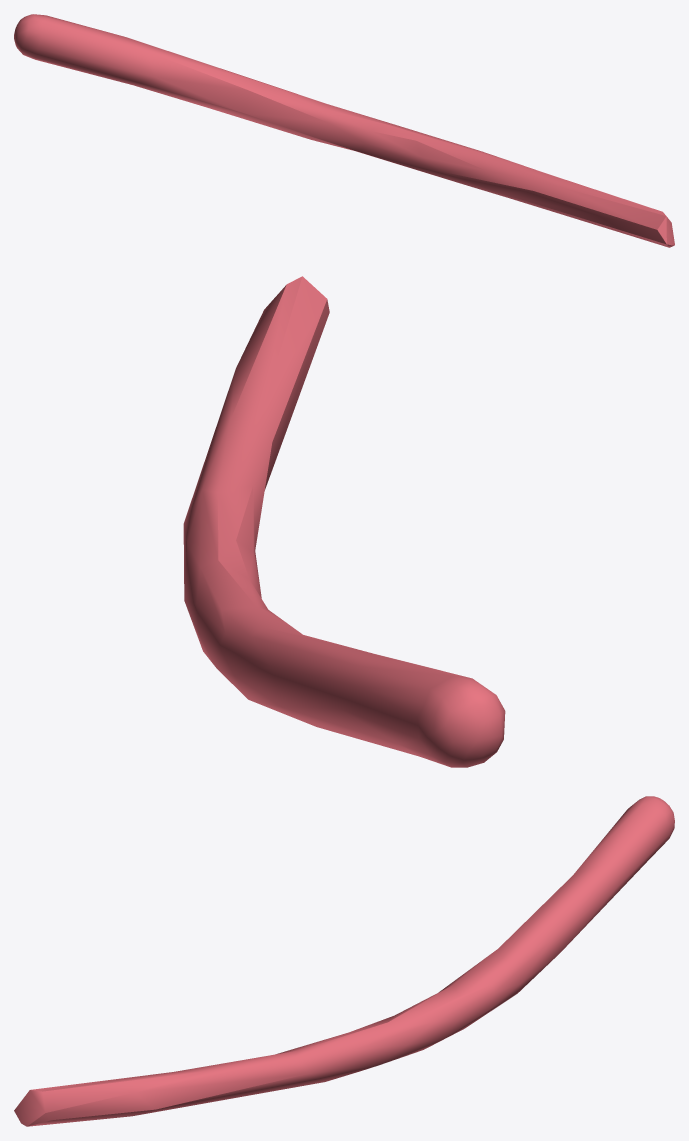
Rendered from fma8667_fj2931.glb.
3 renders of one model, top to bottom at view 1: azimuth 30°, elevation 25°; view 2: azimuth 150°, elevation 25°; view 3: azimuth 270°, elevation 25°, orthographic. The views are drawn at different scales.
Visible parts, largest first — view 1: FMA8667_FJ2931; view 2: FMA8667_FJ2931; view 3: FMA8667_FJ2931.
Boxes of the visible parts, x1,y1,x2,y2 form: FMA8667_FJ2931: (14, 14, 674, 247); FMA8667_FJ2931: (183, 276, 505, 767); FMA8667_FJ2931: (14, 796, 674, 1126).
Bounding box in the file's own units: 0.0305 × 0.00902 × 0.0401.
